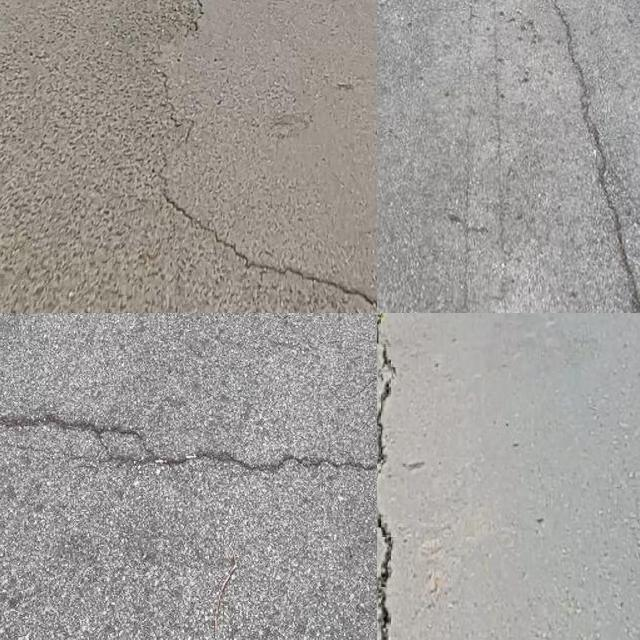Melintang: (0, 405, 377, 489), (158, 196, 377, 313)
Memanjang: (521, 0, 640, 313), (130, 0, 223, 191), (377, 313, 411, 640)
